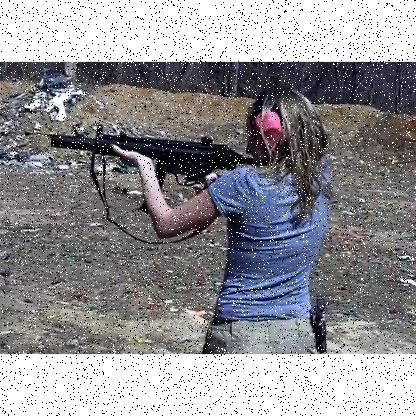gun: (48, 126, 252, 216)
